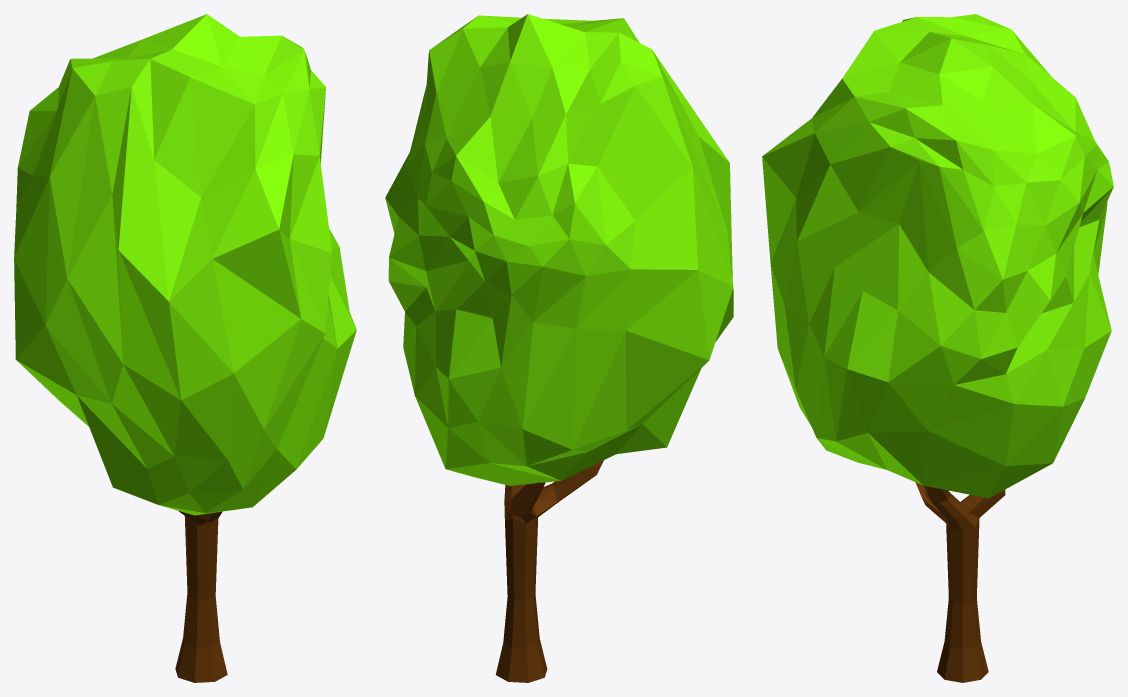
The model's file is Tree_Blob_Stretch_01.FBX.
The picture shows the model from 3 angles, left to right: view 1: azimuth 30°, elevation 25°; view 2: azimuth 150°, elevation 25°; view 3: azimuth 270°, elevation 25°; orthographic projection. The views are drawn at different scales.
Parts seen in each view (by area): view 1: Tree_Blob_Stretch; view 2: Tree_Blob_Stretch; view 3: Tree_Blob_Stretch.
Boxes of the visible parts, x1,y1,x2,y2 form: Tree_Blob_Stretch: [14, 14, 356, 682]; Tree_Blob_Stretch: [385, 14, 733, 682]; Tree_Blob_Stretch: [762, 14, 1113, 682].
Bounding box in the file's own units: 11.93 × 12.08 × 24.
